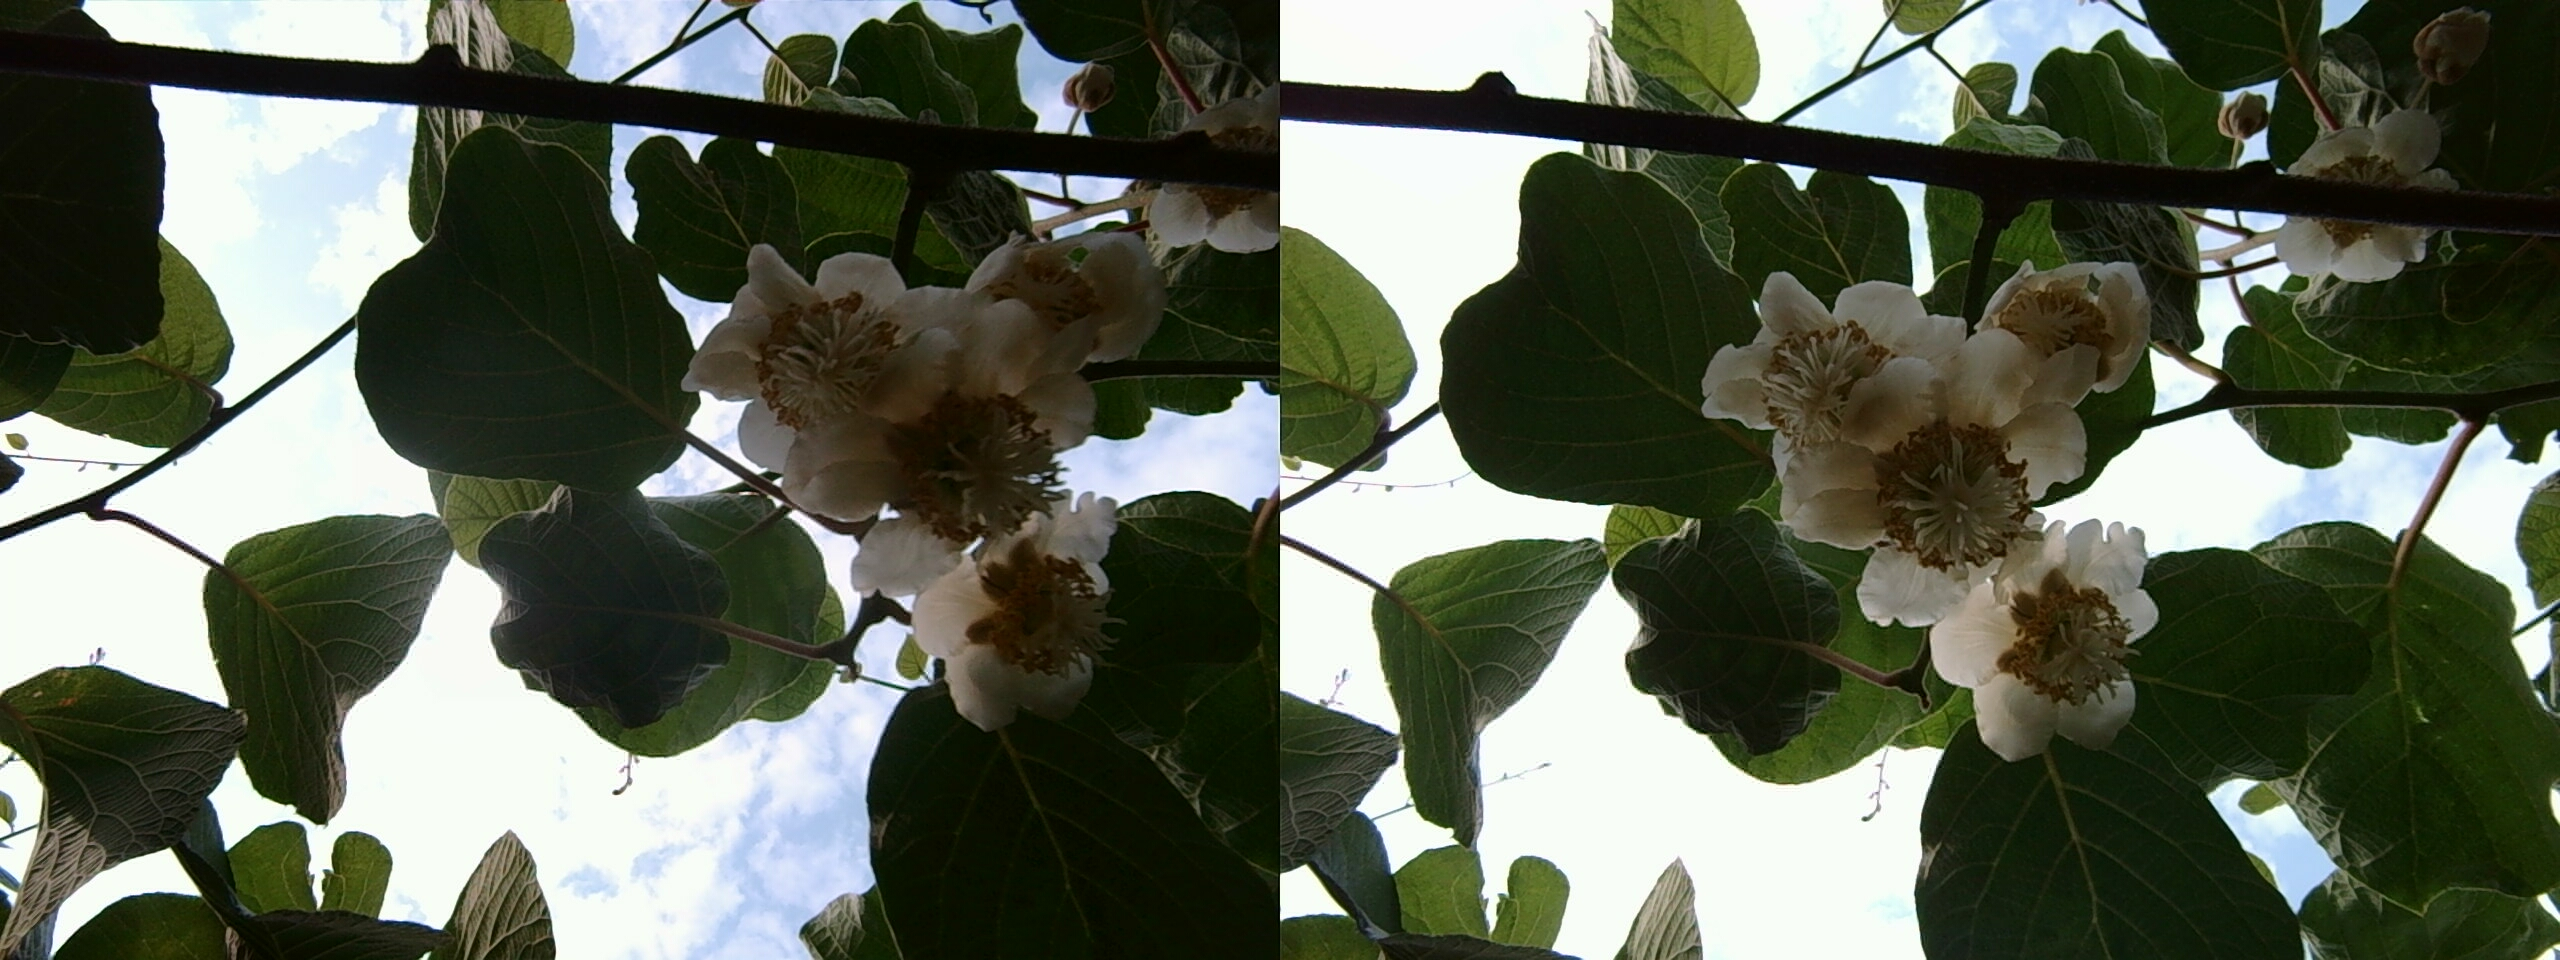flower: (1771, 317, 2098, 614), (797, 287, 1097, 584), (697, 238, 940, 501), (891, 491, 1144, 722), (1925, 508, 2153, 741), (1718, 263, 1944, 459), (1979, 247, 2157, 402)
